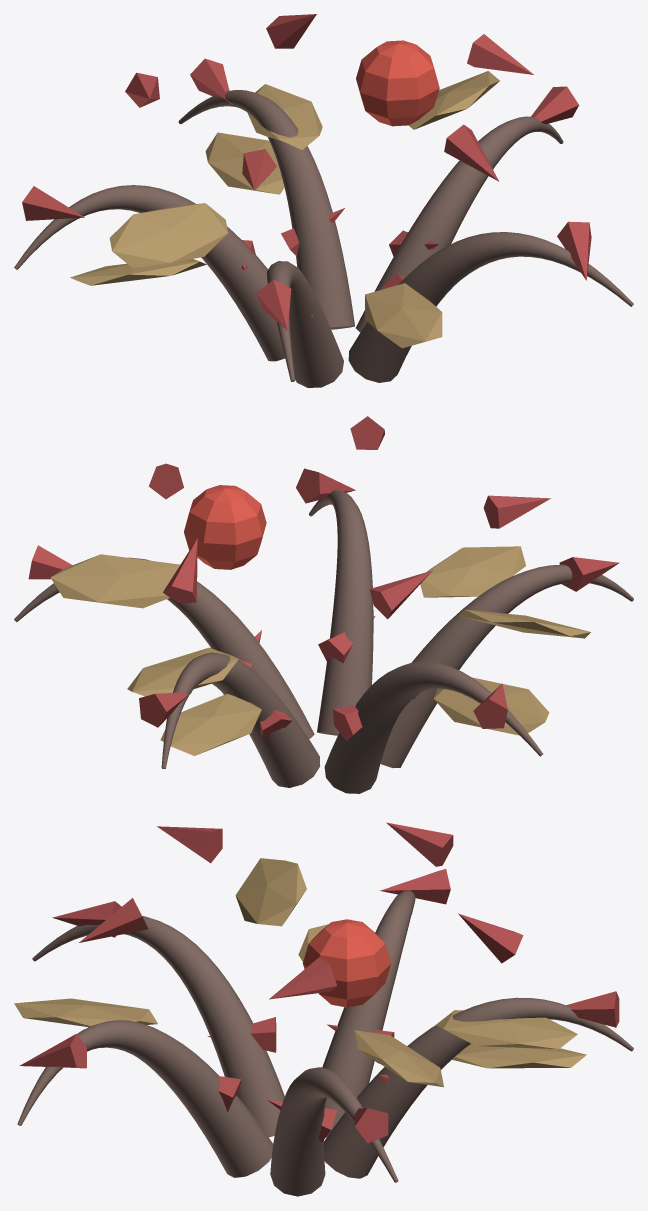
Rendered from withered_briar.glb.
The picture shows the model from 3 angles, top to bottom: view 1: azimuth 30°, elevation 25°; view 2: azimuth 150°, elevation 25°; view 3: azimuth 270°, elevation 25°; orthographic projection. The views are drawn at different scales.
Parts seen in each view (by area): view 1: withered_briar; view 2: withered_briar; view 3: withered_briar.
Boxes of the visible parts, box(x1,y1,x2,y2) form: withered_briar: box(14, 14, 633, 387); withered_briar: box(14, 416, 633, 793); withered_briar: box(14, 822, 633, 1196).
Bounding box in the file's own units: 0.6486 × 0.3251 × 0.63.
